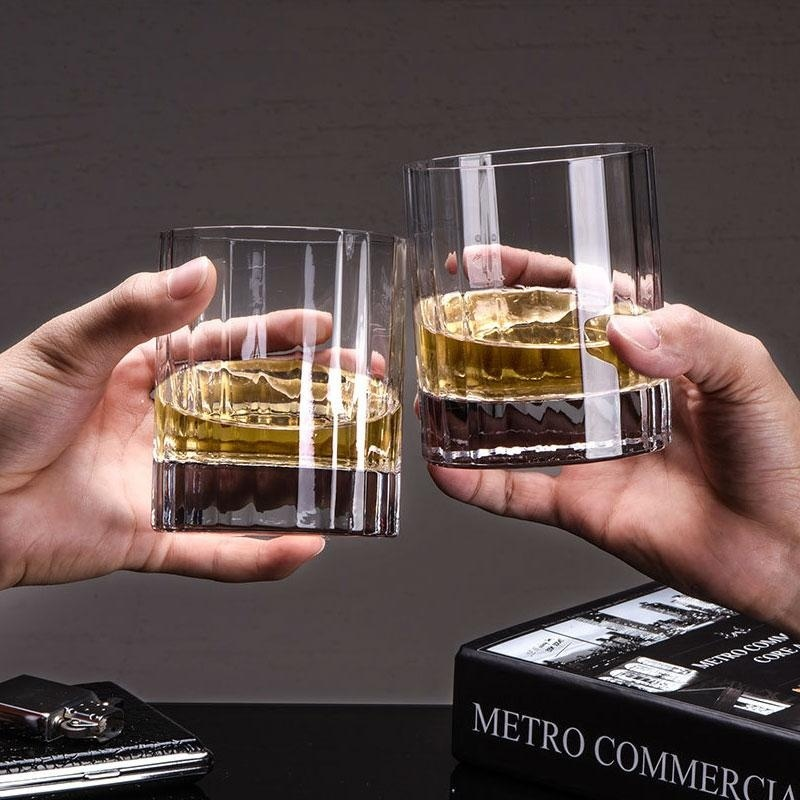whiskey: (158, 219, 419, 541), (432, 135, 658, 477)
